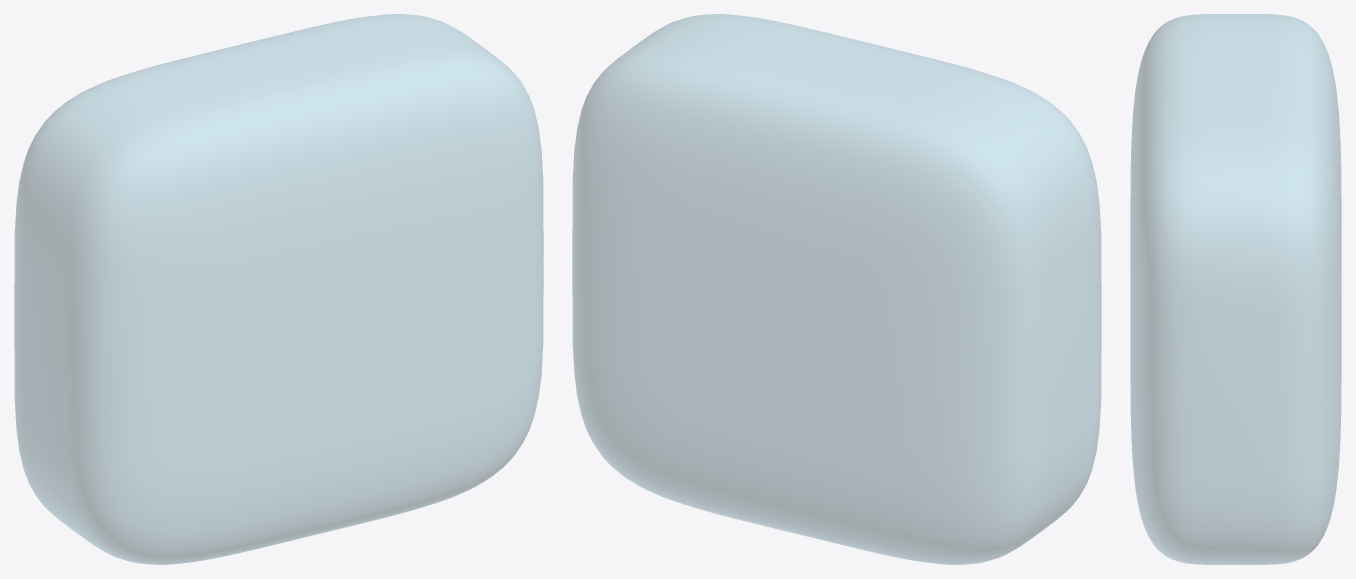
3 renders of one model, left to right at view 1: azimuth 30°, elevation 25°; view 2: azimuth 150°, elevation 25°; view 3: azimuth 270°, elevation 25°, orthographic. The views are drawn at different scales.
Parts seen in each view (by area): view 1: gel-body; view 2: gel-body; view 3: gel-body.
Part boxes in pixels (x1=…): gel-body: x1=14, y1=14, x2=543, y2=564; gel-body: x1=572, y1=14, x2=1101, y2=564; gel-body: x1=1130, y1=14, x2=1341, y2=564.
Size of the model in its own units: 1.66 by 1.52 by 0.7.
